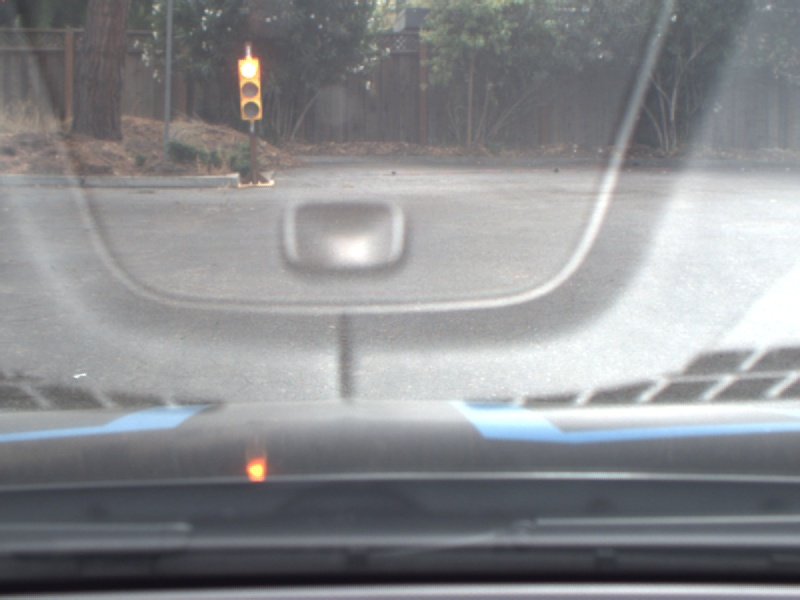red: (236, 56, 268, 122)
